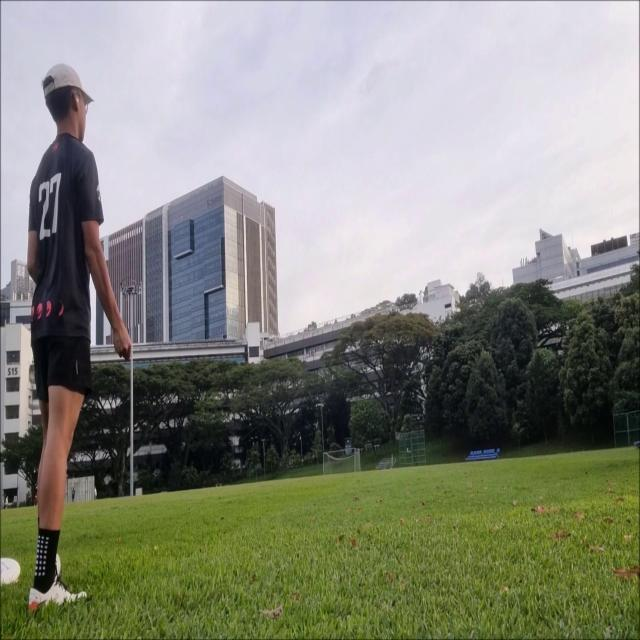disc: (554, 275, 563, 280)
